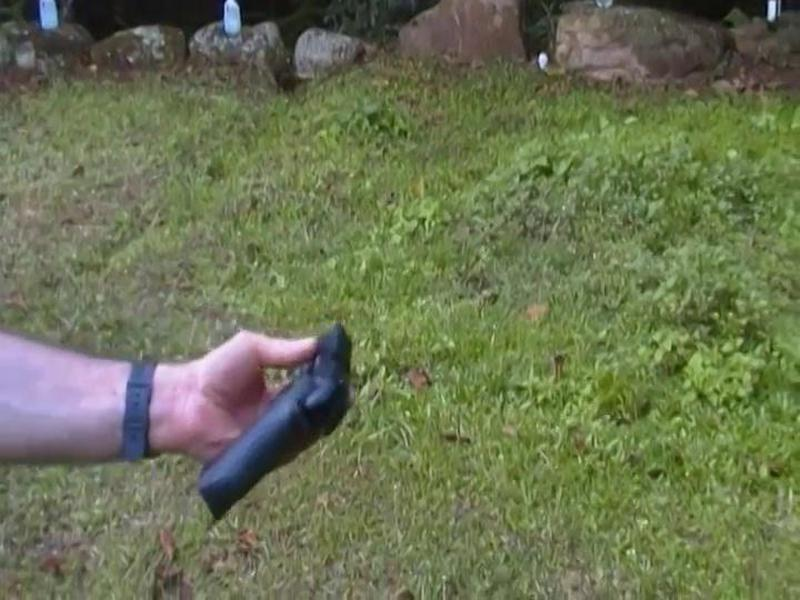Pistola: (158, 291, 403, 533)
